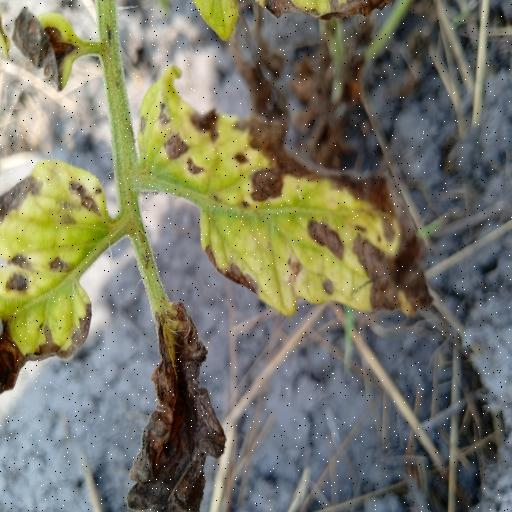Tomato_Brown_Spots: (136, 53, 435, 323), (0, 156, 124, 406)
